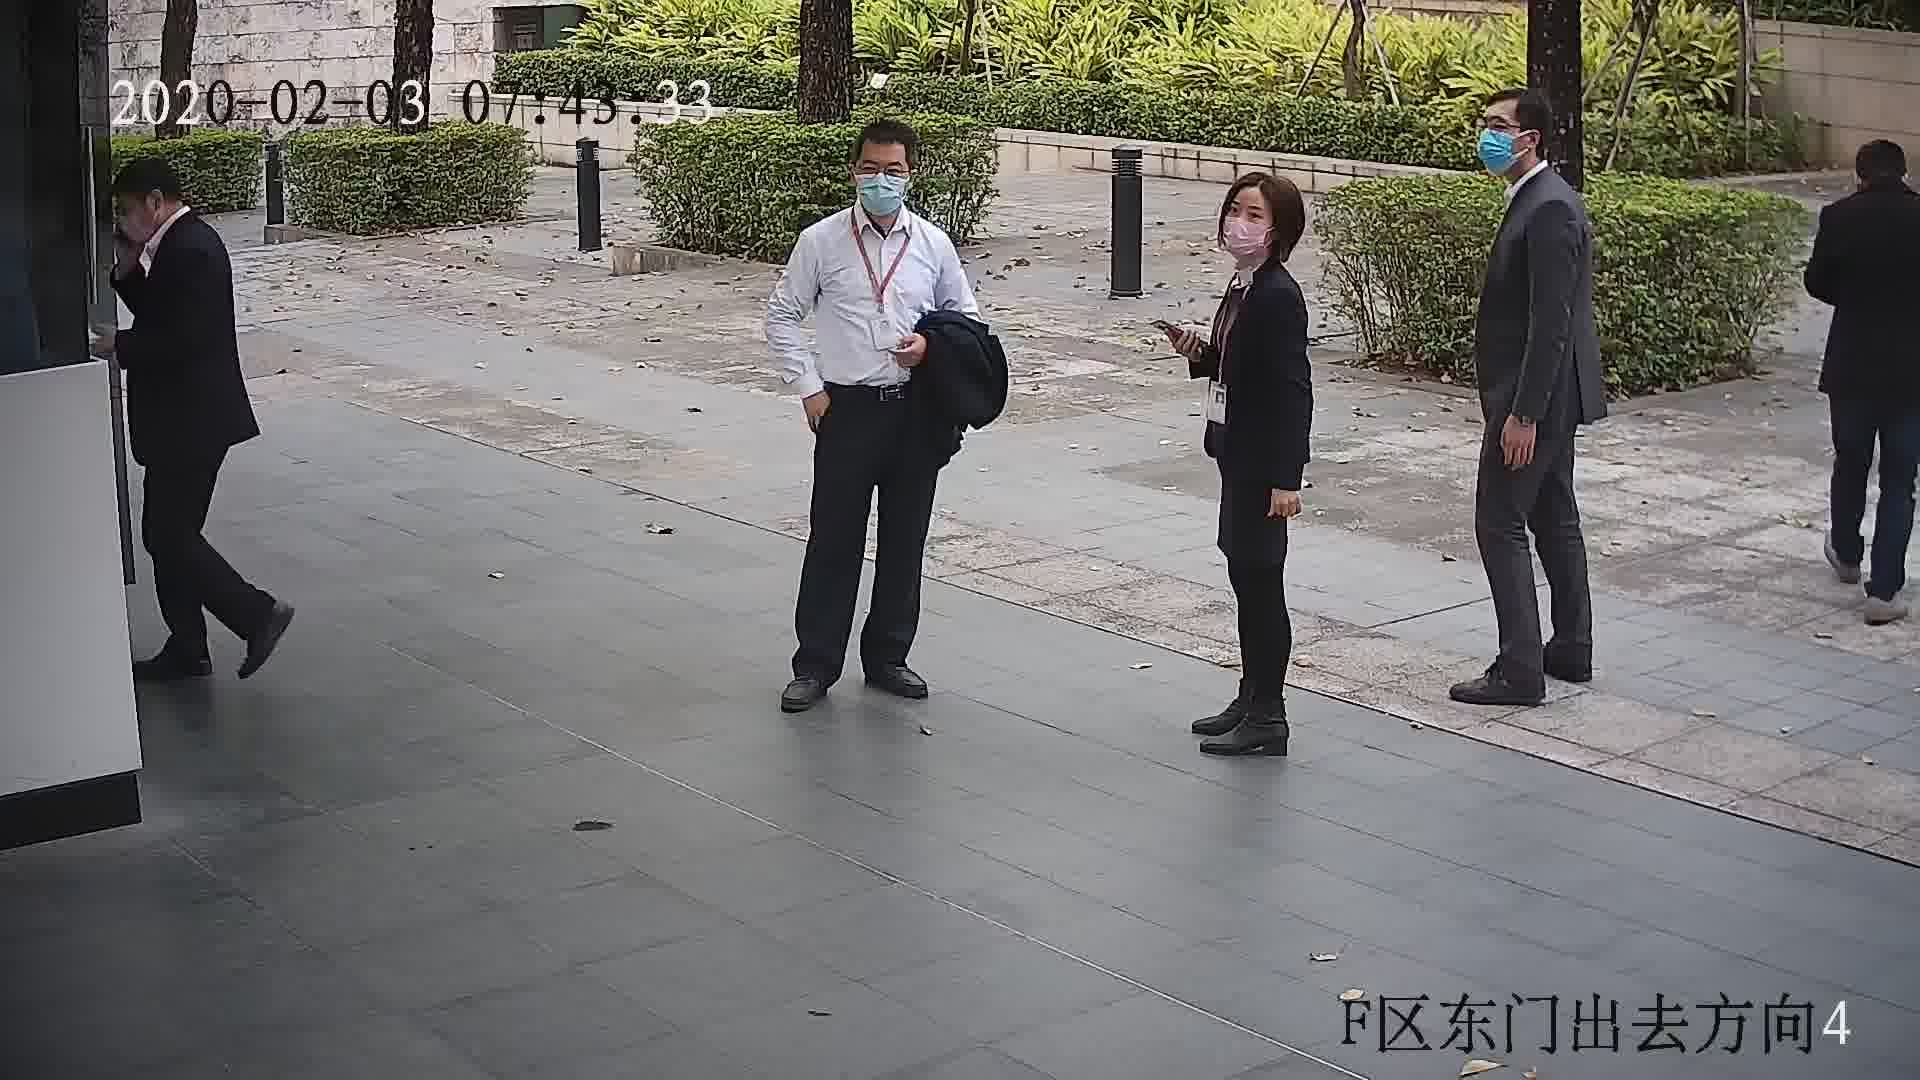face: (1218, 186, 1284, 252), (853, 136, 909, 214), (1478, 100, 1527, 181), (104, 188, 159, 241)
mask: (854, 170, 908, 213), (1220, 212, 1268, 260), (1477, 130, 1518, 177), (111, 208, 154, 247)
person: (795, 119, 952, 264), (107, 155, 238, 290), (1478, 85, 1589, 230), (1212, 172, 1320, 311), (1814, 131, 1920, 256)
